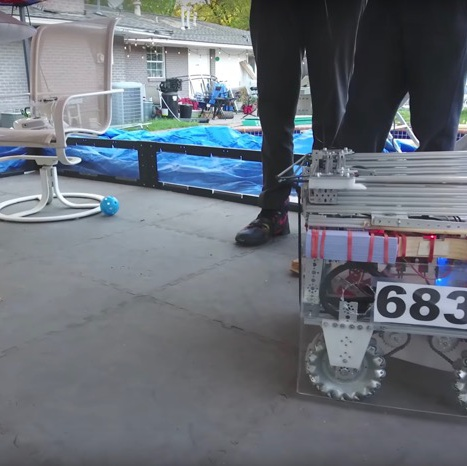blueball: (96, 192, 121, 216)
robot: (274, 137, 467, 425)
